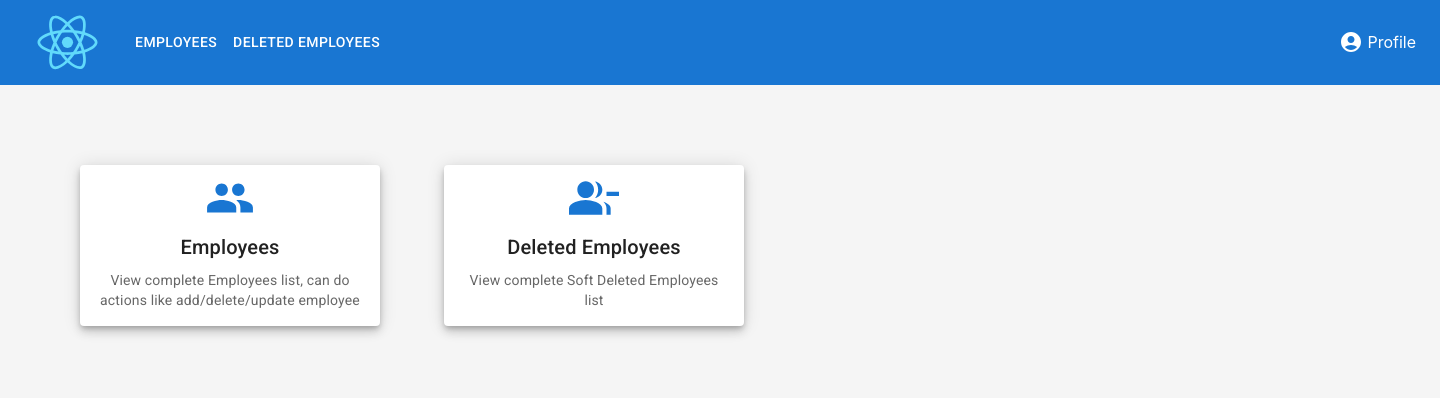
Testing UI elemnts from APP level › Testing Employee table rendered when employee button clicked on navbar
Click the link with test id "nav-to-employees".
click(176, 42)  # box [135,34,217,50]
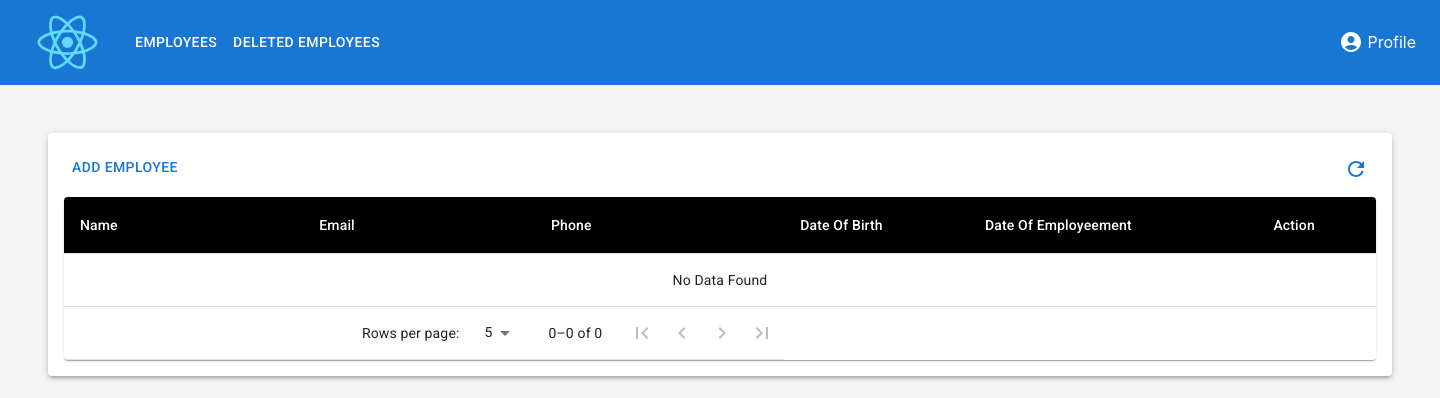
expect the element with test id "emp-main-div" is shown: met, box [48,133,1392,376]
